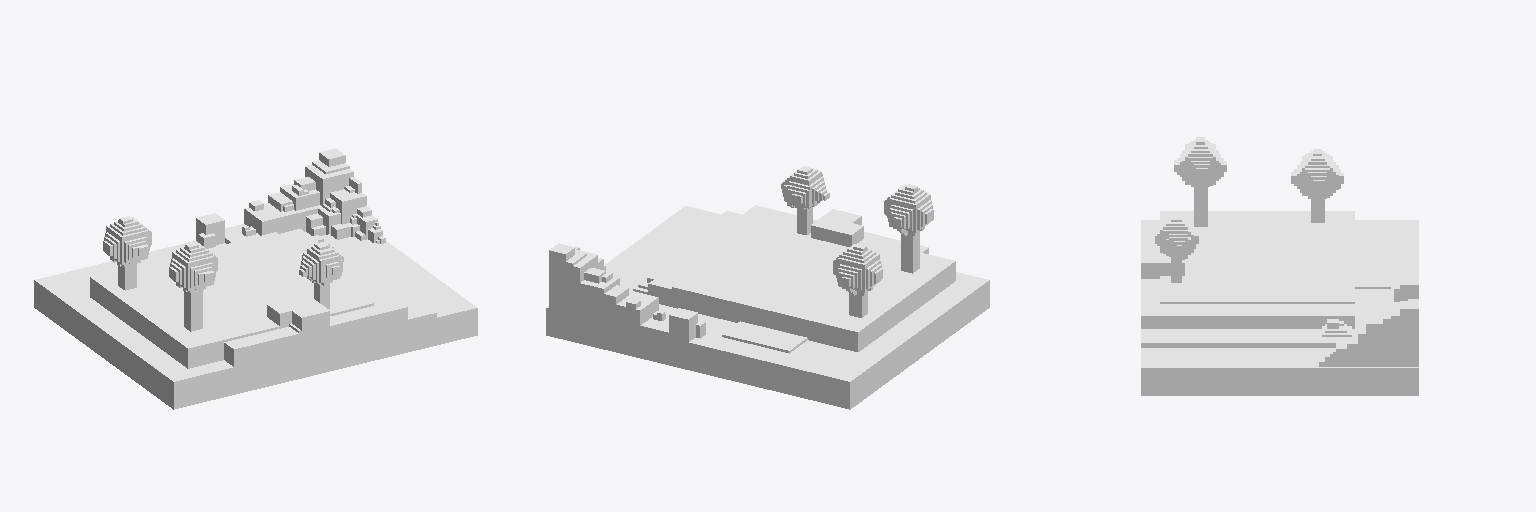
Rendered from CreenStage.obj.
3 views of the same model, side by side, from view 1: azimuth 30°, elevation 25°; view 2: azimuth 150°, elevation 25°; view 3: azimuth 270°, elevation 25° (orthographic).
Parts seen in each view (by area): view 1: CreenStage; view 2: CreenStage; view 3: CreenStage.
Boxes of the visible parts, x1,y1,x2,y2 form: CreenStage: [34, 148, 477, 409]; CreenStage: [546, 166, 989, 409]; CreenStage: [1141, 137, 1418, 395].
Bounding box in the file's own units: 126 × 52 × 100.